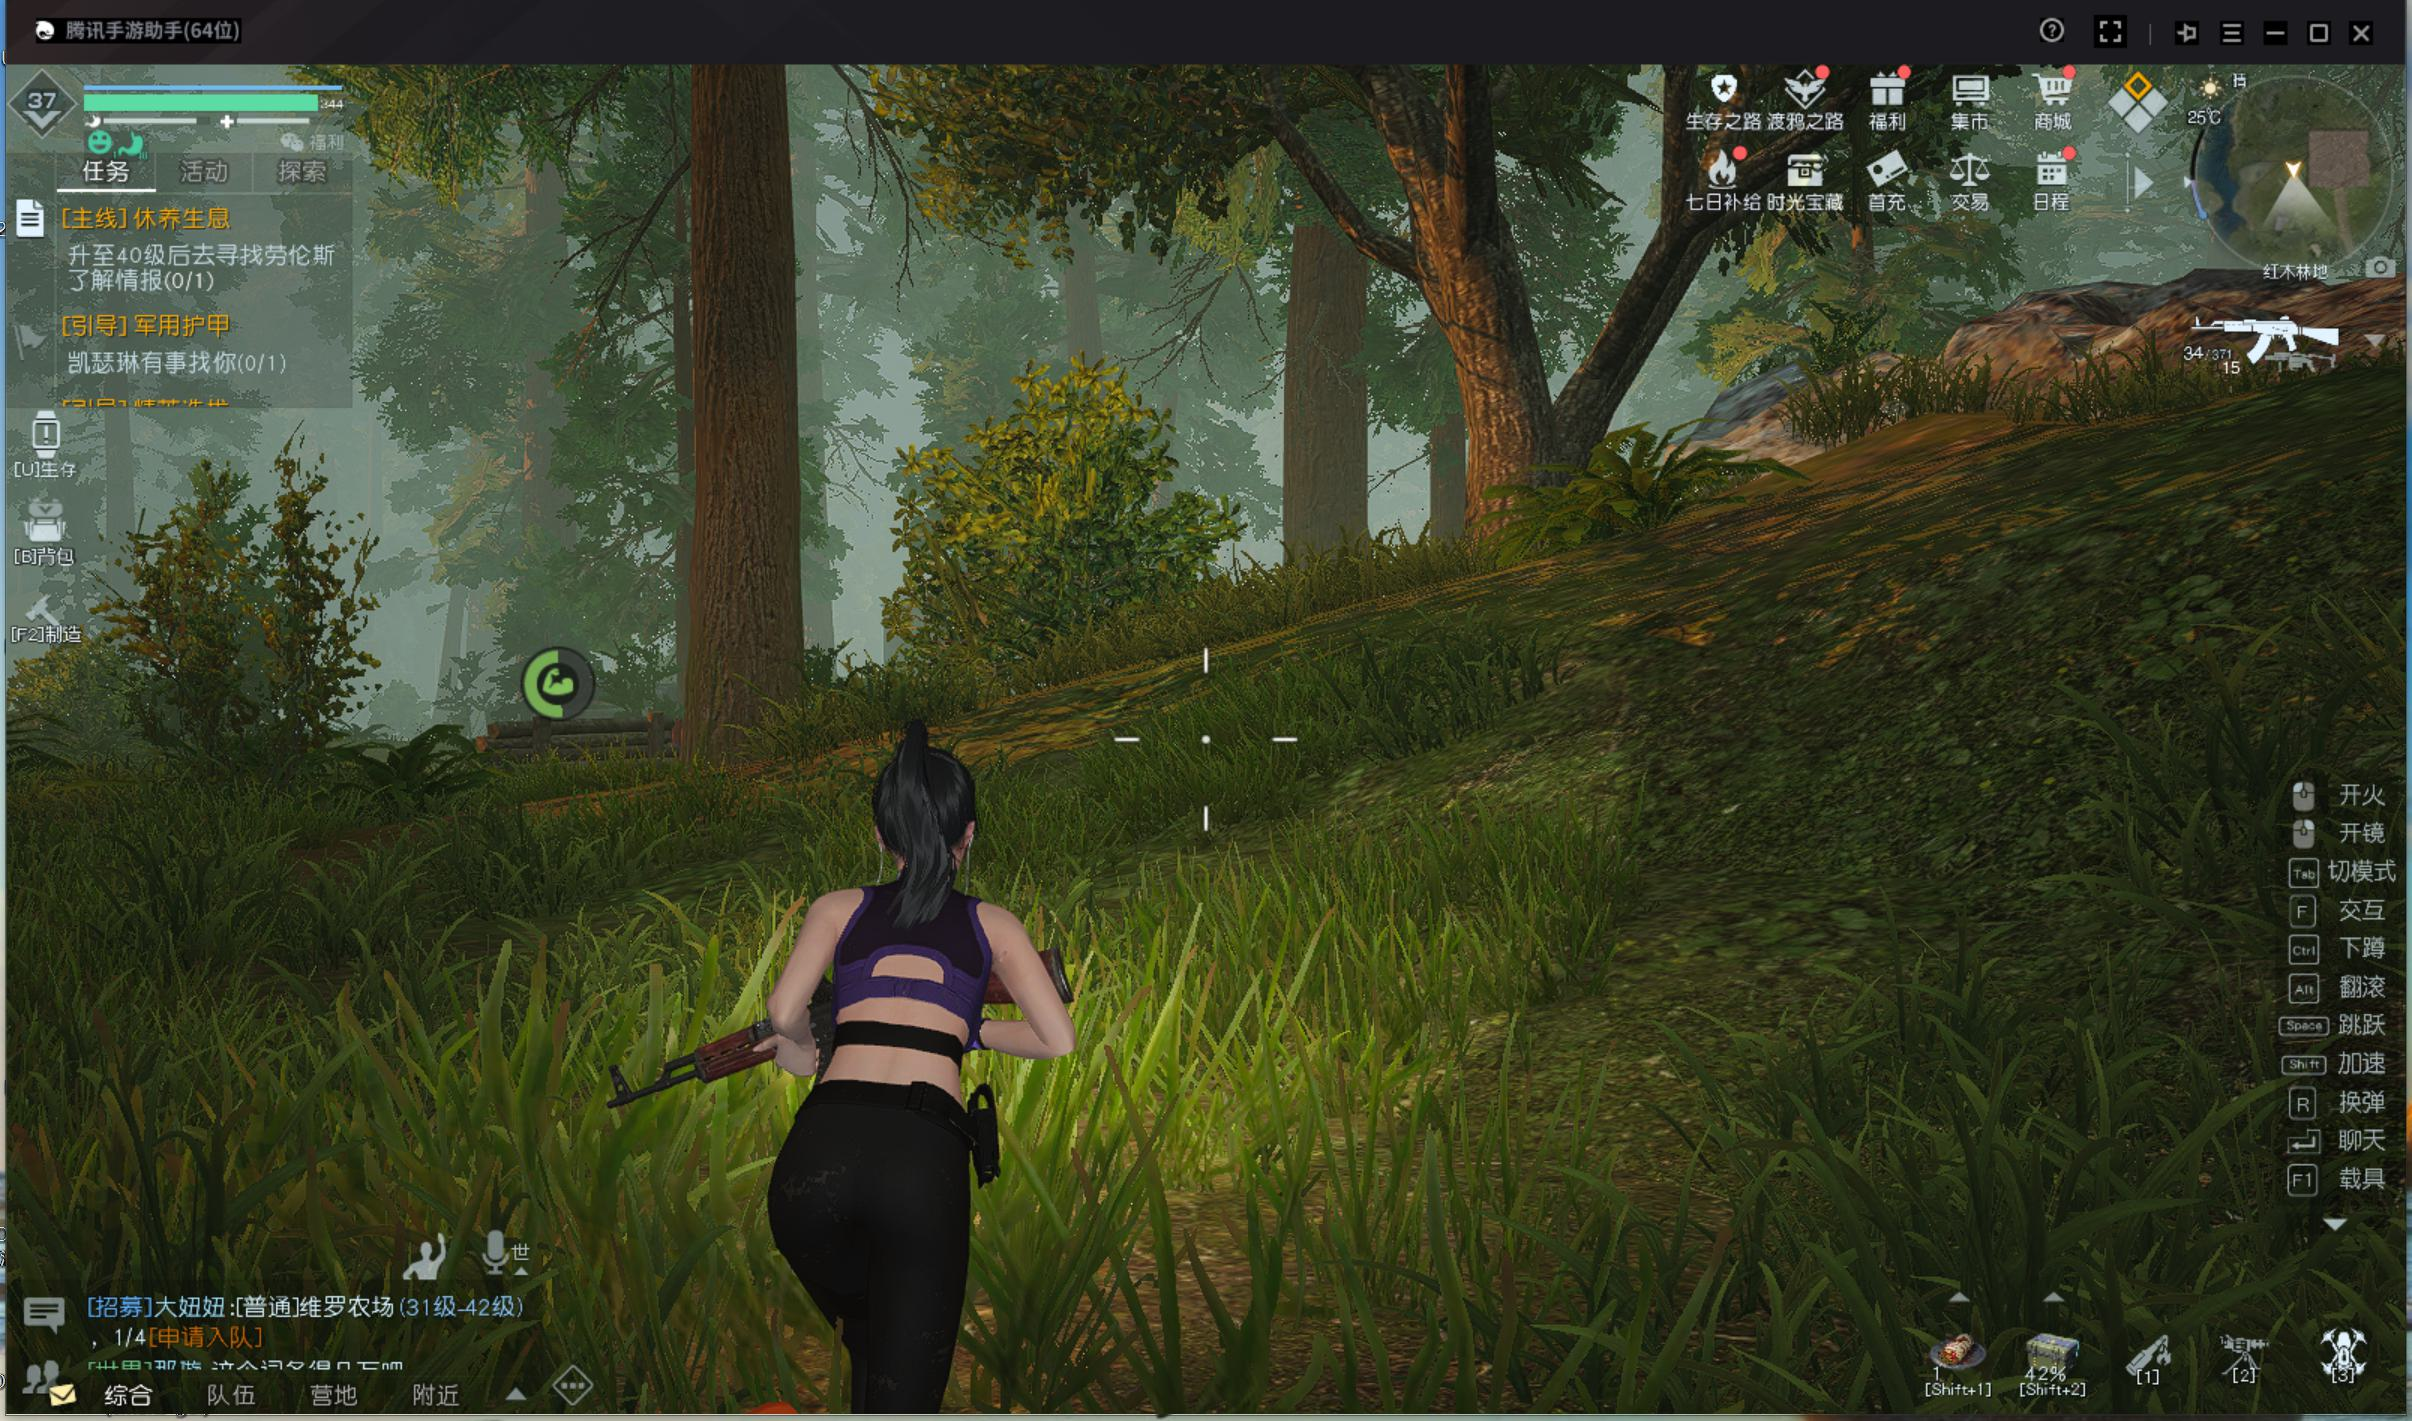tree: (678, 85, 809, 795), (1269, 201, 1375, 579)
